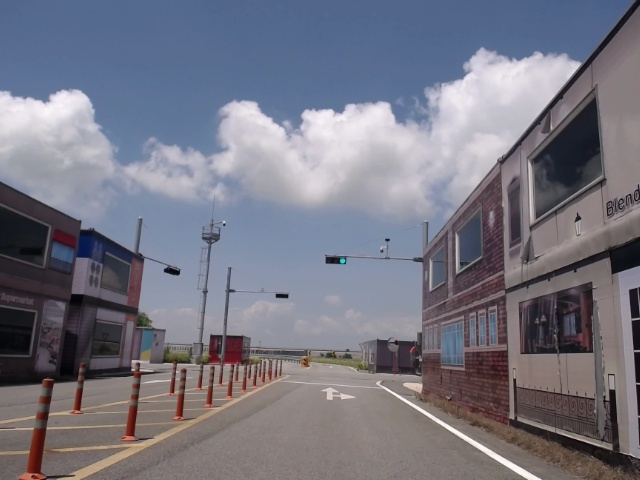green_3: (326, 256, 346, 263)
